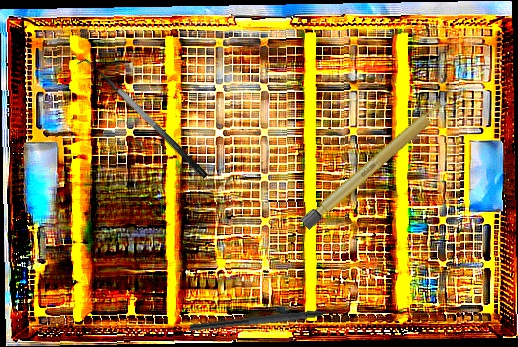Chopper: (189, 304, 352, 342)
Scalpel Handle: (300, 96, 452, 231)
Spatula Surgical: (74, 50, 209, 190)
